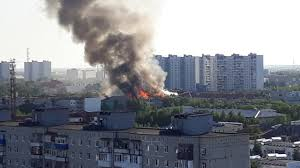fire: (117, 72, 182, 114)
